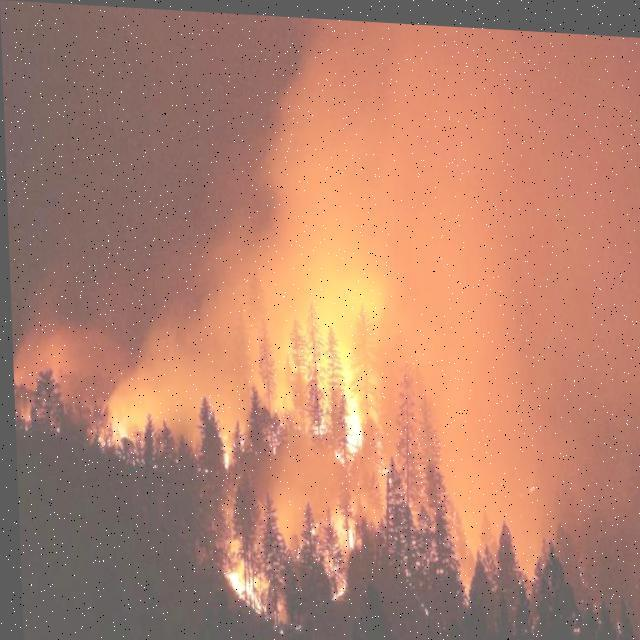Fire: (84, 299, 393, 626)
